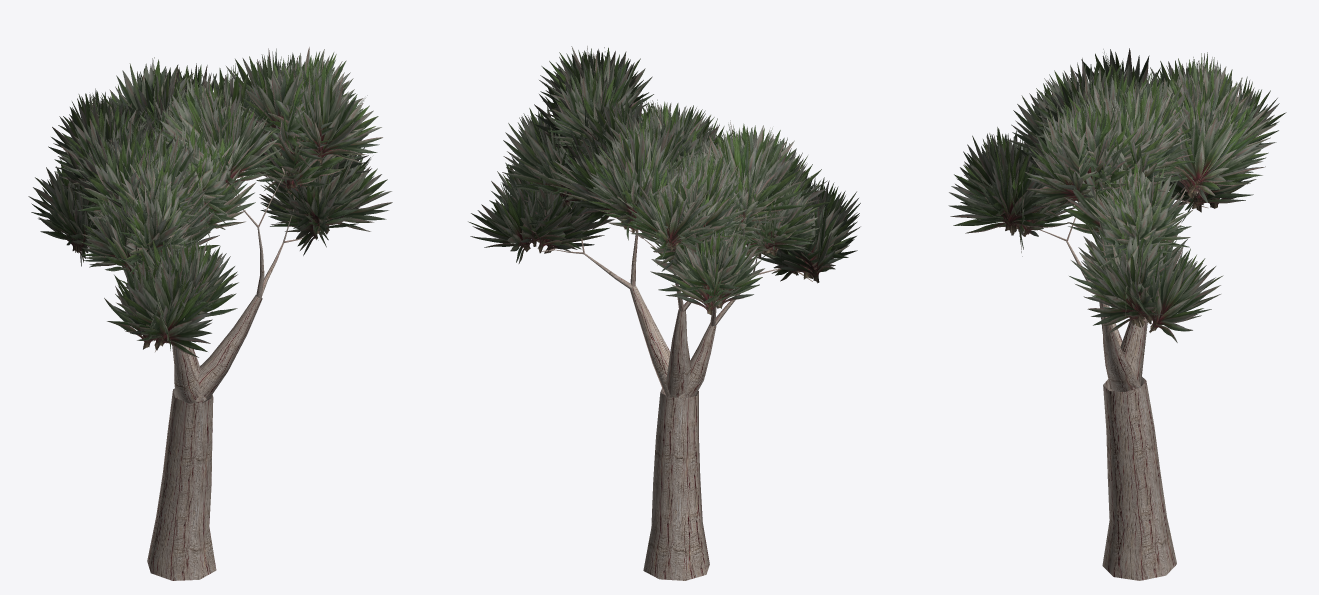
Rendered from nature-red-dragonblood-tree_v4.glb.
The picture shows the model from 3 angles, left to right: view 1: azimuth 30°, elevation 25°; view 2: azimuth 150°, elevation 25°; view 3: azimuth 270°, elevation 25°; orthographic projection. The views are drawn at different scales.
Parts seen in each view (by area): view 1: nature-red-dragonblood-tree; view 2: nature-red-dragonblood-tree; view 3: nature-red-dragonblood-tree.
Boxes of the visible parts, x1,y1,x2,y2 form: nature-red-dragonblood-tree: (28, 47, 392, 580); nature-red-dragonblood-tree: (468, 46, 860, 580); nature-red-dragonblood-tree: (948, 48, 1286, 580).
Size of the model in its own units: 5.83 by 8.18 by 5.23.
Materials: 2 (2 with a texture image).
